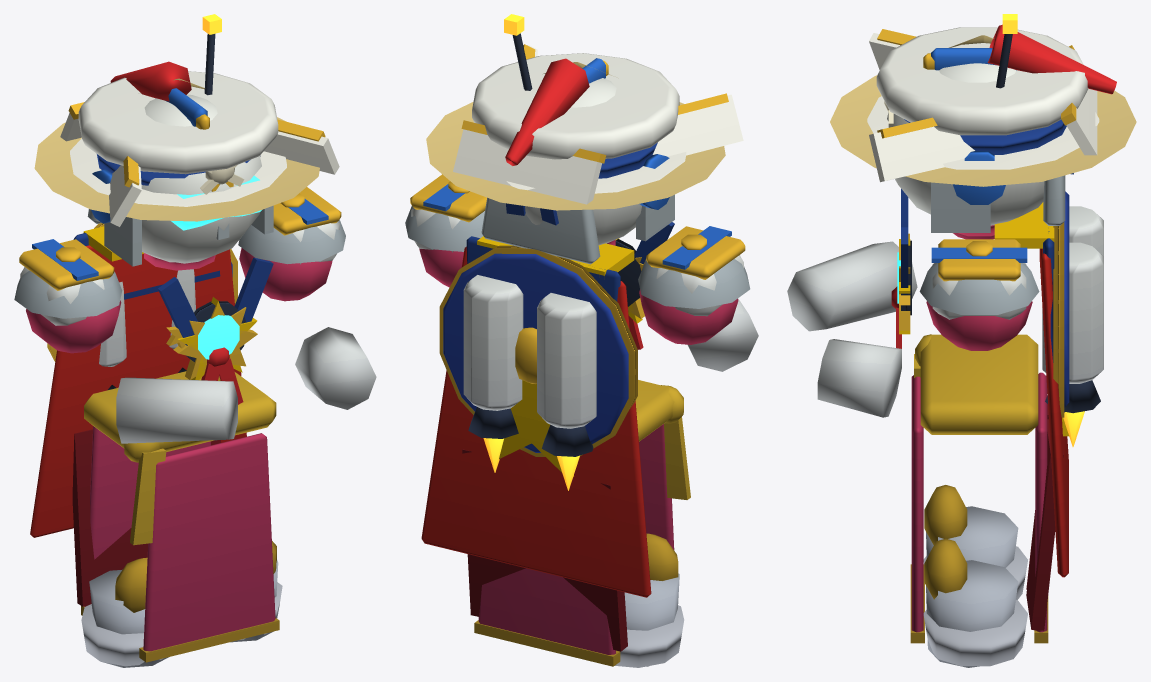
The model's file is disguises.glb.
The picture shows the model from 3 angles, left to right: view 1: azimuth 30°, elevation 25°; view 2: azimuth 150°, elevation 25°; view 3: azimuth 270°, elevation 25°; orthographic projection. The views are drawn at different scales.
Parts seen in each view (by area): view 1: Tunic panel, Chest star, Cap band, Coat tail, Robot helmet, Tricorn crown, Gauntlet, Non la, Gauntlet.001, Helm, Sailor collar, Core ring (+13 smaller); view 2: Chest star, Core ring, Cap band, Sun crest, Tunic panel, Tricorn crown, Helm, Non la, Coat tail, Robot helmet, Pauldron, Silk sleeve (+11 smaller); view 3: Cap band, Coat tail, Tricorn crown, Non la, Core ring, Gauntlet, Robot helmet, Helm, Chest star, Tunic panel, Gauntlet.001, Shin armour.001 (+11 smaller).
Boxes of the visible parts, x1,y1,x2,y2 form: Tunic panel: (81, 426, 279, 662); Chest star: (30, 226, 257, 537); Cap band: (78, 71, 278, 191); Coat tail: (72, 371, 276, 606); Robot helmet: (91, 14, 261, 263); Tricorn crown: (60, 102, 339, 226); Gauntlet: (116, 377, 237, 443); Non la: (34, 78, 319, 221); Gauntlet.001: (295, 327, 376, 409); Helm: (87, 61, 273, 266); Sailor collar: (73, 233, 273, 404); Core ring: (99, 269, 245, 390); Chest star: (421, 236, 651, 597); Core ring: (463, 239, 641, 490); Cap band: (472, 53, 679, 225); Sun crest: (439, 245, 644, 456); Tunic panel: (474, 424, 674, 666); Tricorn crown: (453, 44, 743, 204); Helm: (481, 58, 674, 264); Non la: (426, 62, 725, 210); Coat tail: (462, 380, 690, 651); Robot helmet: (504, 14, 669, 245); Pauldron: (638, 234, 750, 308); Silk sleeve: (639, 289, 738, 344); Cap band: (876, 27, 1088, 174); Coat tail: (914, 334, 1063, 630); Tricorn crown: (867, 29, 1099, 182); Non la: (830, 35, 1136, 186); Core ring: (897, 206, 1103, 446); Gauntlet: (787, 241, 917, 331); Robot helmet: (887, 14, 1044, 225); Helm: (923, 24, 1116, 232); Chest star: (899, 202, 1069, 577); Tunic panel: (910, 372, 1048, 643); Gauntlet.001: (817, 339, 901, 417); Shin armour.001: (926, 560, 1018, 667).
Size of the model in its own units: 1.02 by 1.87 by 0.9337.
21 materials, 19 textured.
